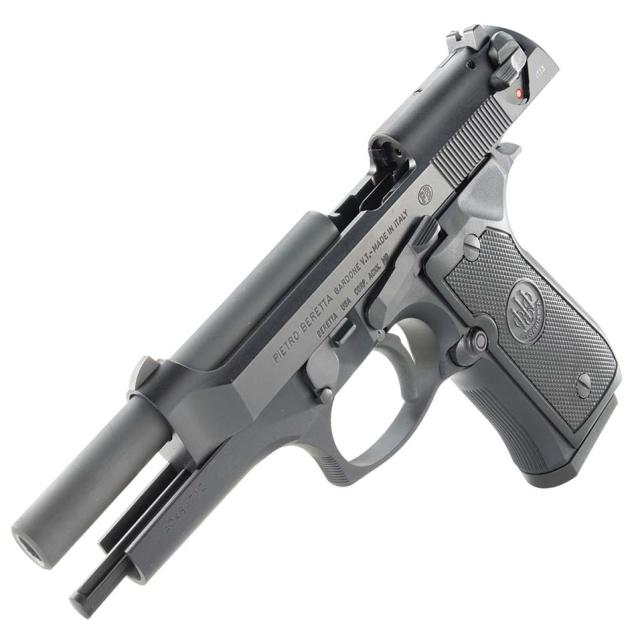Gun: (28, 11, 623, 610)
